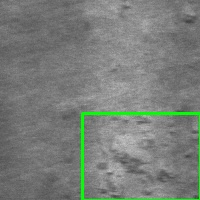rolled-in_scale: (82, 113, 200, 200)
